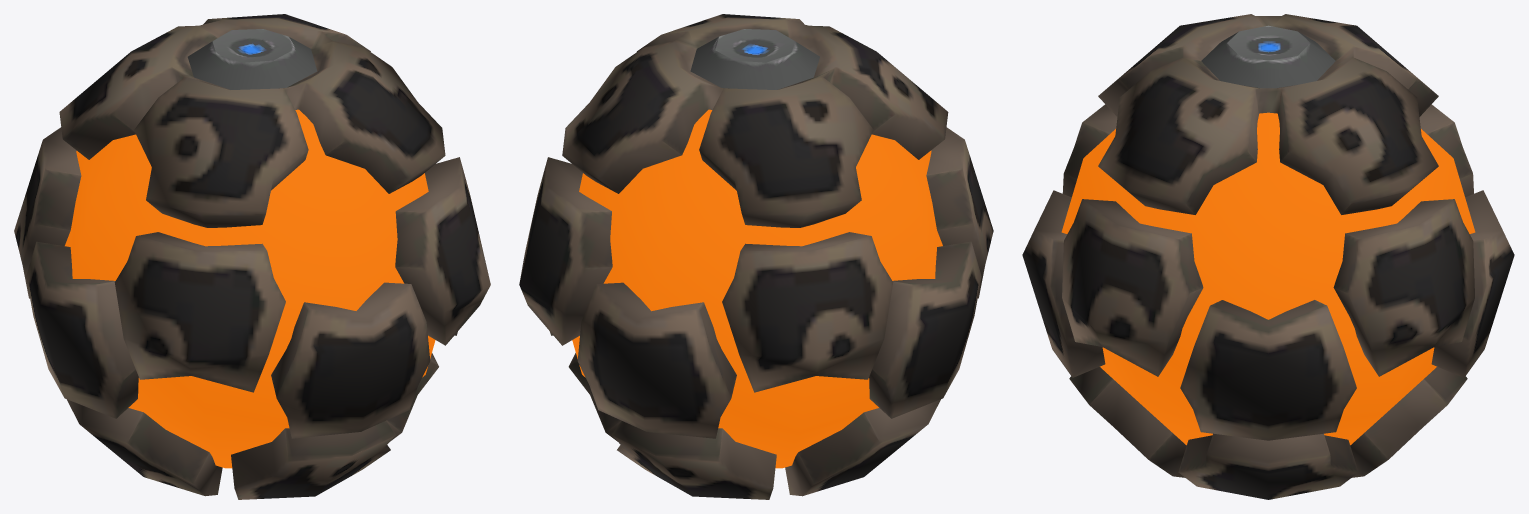
File: Item_Enemy_30.glb
3 views of the same model, side by side, from view 1: azimuth 30°, elevation 25°; view 2: azimuth 150°, elevation 25°; view 3: azimuth 270°, elevation 25° (orthographic).
Parts seen in each view (by area): view 1: Item_Enemy_30; view 2: Item_Enemy_30; view 3: Item_Enemy_30.
Part boxes in pixels (x1=…): Item_Enemy_30: x1=14, y1=14, x2=490, y2=499; Item_Enemy_30: x1=519, y1=14, x2=993, y2=499; Item_Enemy_30: x1=1022, y1=14, x2=1514, y2=499.
Size of the model in its own units: 0.4429 by 0.412 by 0.4429.
Materials: 1 (1 with a texture image).
